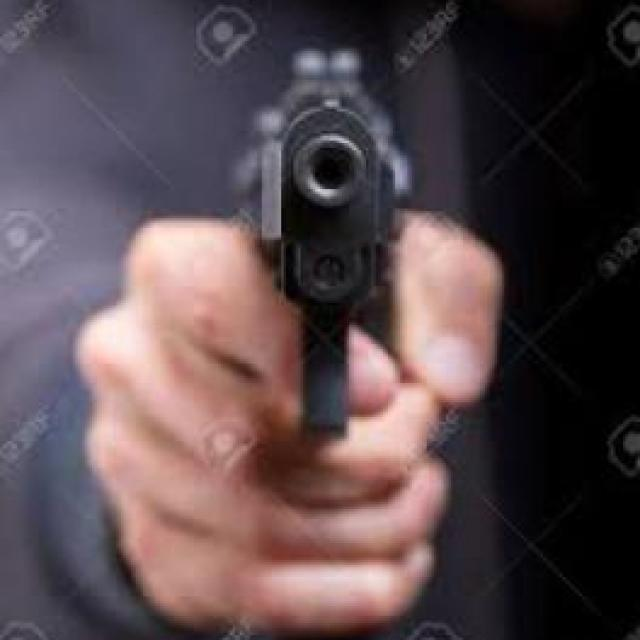pistol: (250, 36, 407, 640)
